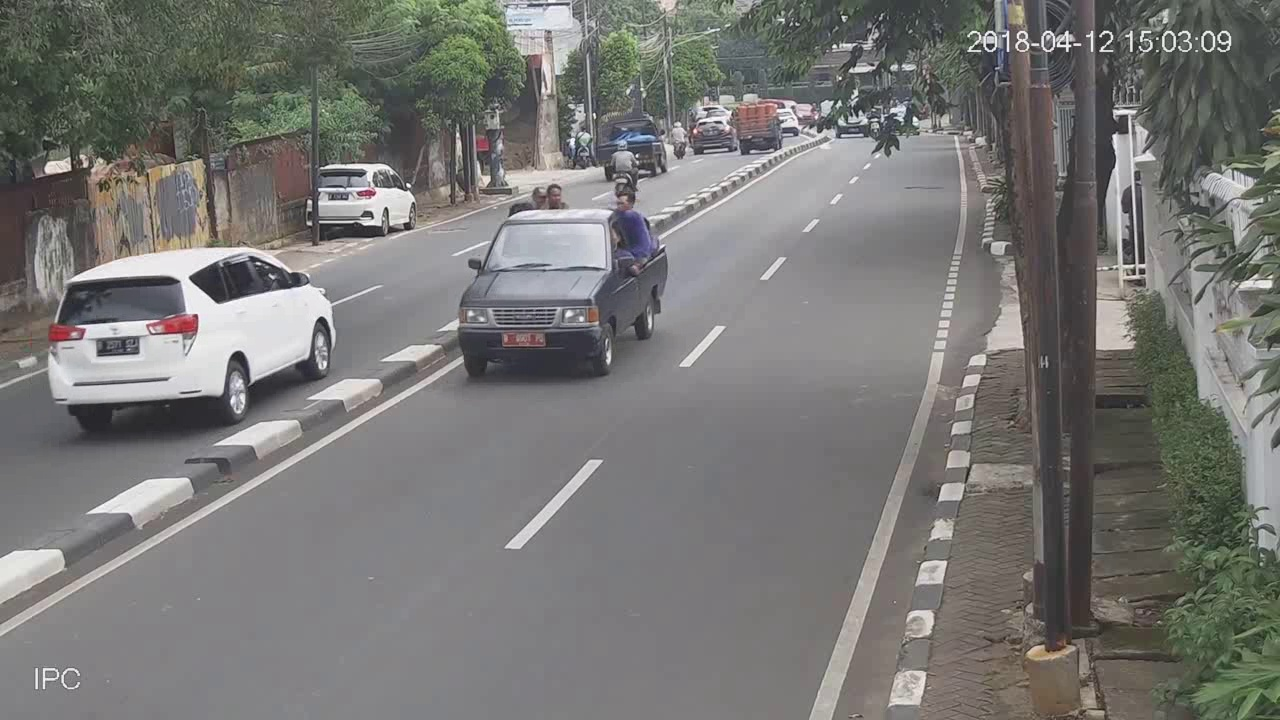car: (46, 245, 340, 431), (309, 159, 421, 240)
truck: (453, 206, 670, 377)
